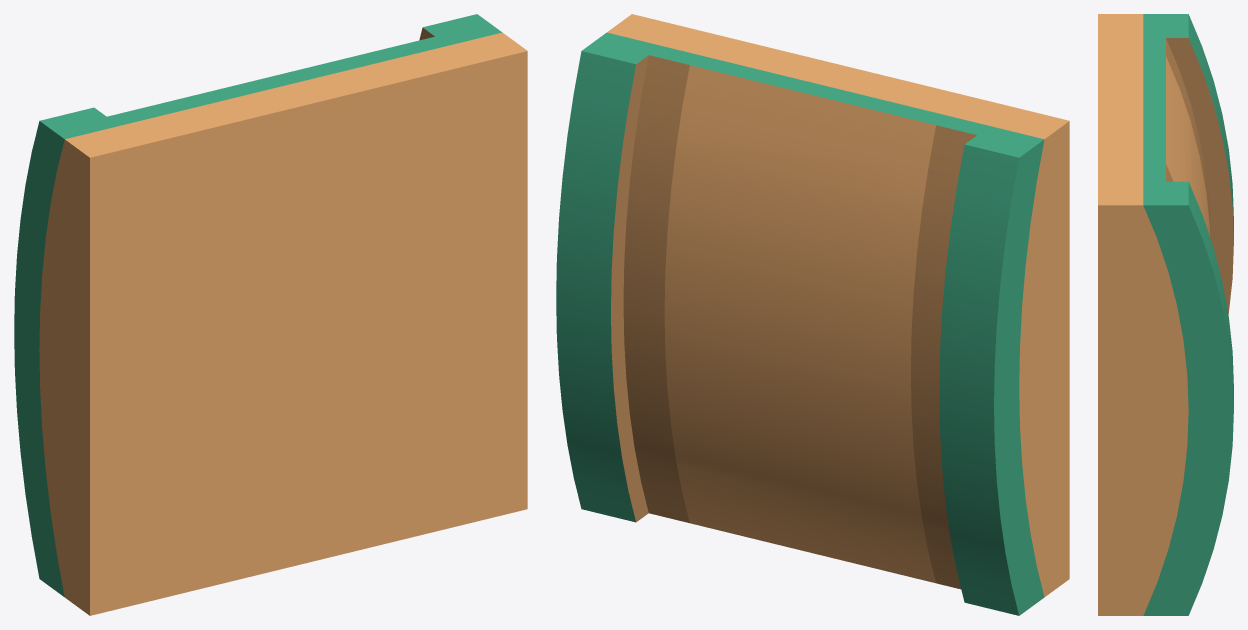
Rendered from tile_bump.obj.
3 views of the same model, side by side, from view 1: azimuth 30°, elevation 25°; view 2: azimuth 150°, elevation 25°; view 3: azimuth 270°, elevation 25° (orthographic). The views are drawn at different scales.
Visible parts, largest first — view 1: tile_bump; view 2: tile_bump; view 3: tile_bump.
Boxes of the visible parts, <box> form: tile_bump: <box>14,14,527,615</box>; tile_bump: <box>556,14,1069,615</box>; tile_bump: <box>1098,14,1233,615</box>.
Size of the model in its own units: 1 by 1 by 0.3.
